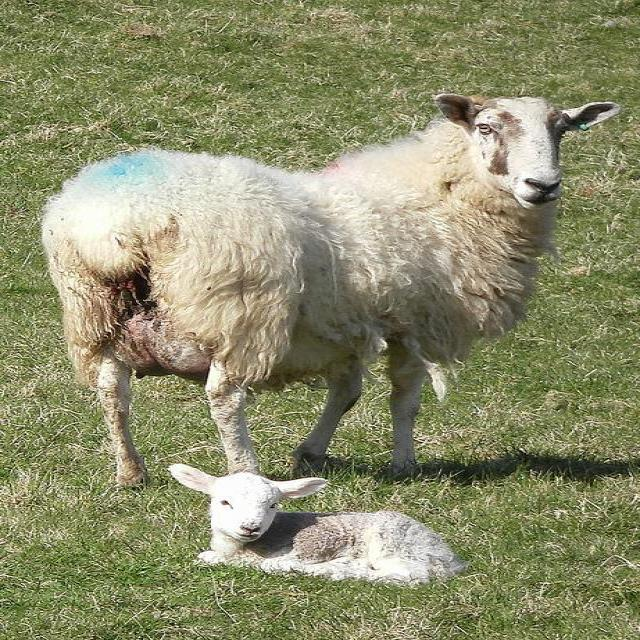Sheep: (43, 94, 625, 489), (161, 460, 475, 594)
